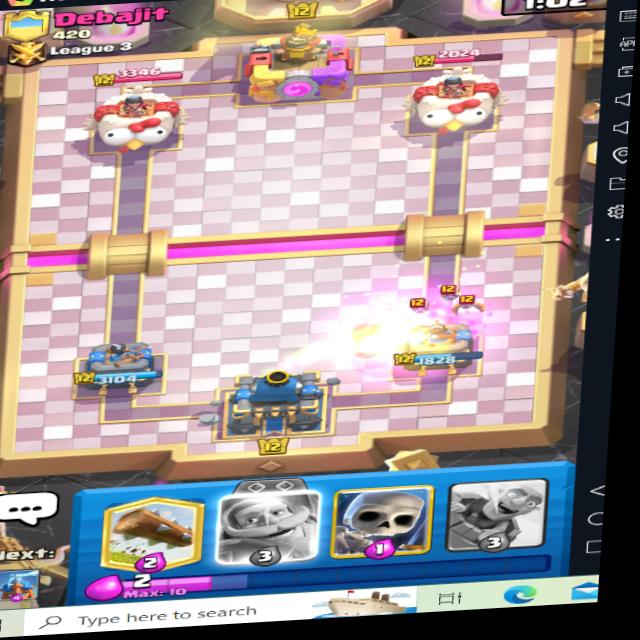bats: (420, 271, 465, 307), (451, 293, 498, 319), (405, 286, 442, 318)
